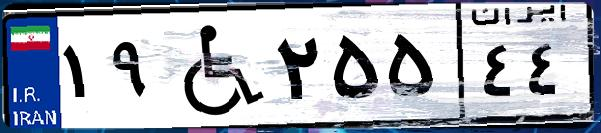1: (57, 26, 110, 100)
2: (270, 28, 330, 110)
4: (475, 38, 525, 113), (525, 38, 570, 115)
5: (385, 28, 445, 110), (330, 28, 385, 110)
9: (110, 28, 158, 98)
ژ (معلولین و جانبازان): (158, 12, 270, 120)
